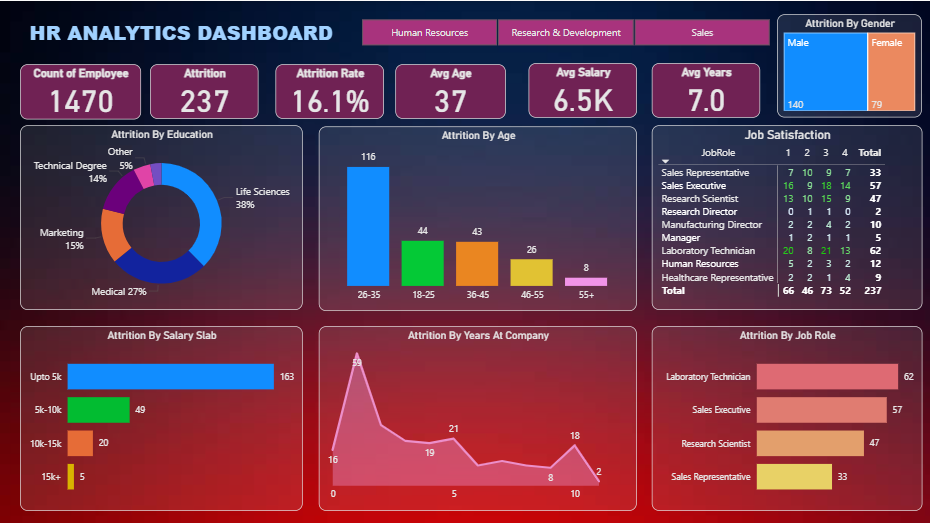

The page's visual inventory and layout, read from the dashboard file:
{"tool":"powerbi","page":{"name":"Page 1","canvas":[1280,720],"ordinal":0},"visuals":[{"type":"card","title":"Count of Employee","fields":{"Values":["CountNonNull(HR_Analytics.EmpID)"]},"box":[30.6,86.8,156,75.6],"z":0},{"type":"card","title":"Attrition","fields":{"Values":["Sum(HR_Analytics.AttritionCount)"]},"box":[209.1,87.3,149.1,74.5],"z":1000},{"type":"card","title":"Attrition Rate","fields":{"Values":["HR_Analytics.AttritionRate"]},"box":[380,87.3,149.1,74.5],"z":2000},{"type":"card","title":"Avg Age","fields":{"Values":["Avg(HR_Analytics.Age)"]},"box":[545.5,87.3,150.9,74.5],"z":3000},{"type":"card","title":"Avg Salary","fields":{"Values":["Avg(HR_Analytics.MonthlyIncome)"]},"box":[727.3,85.5,149.1,74.5],"z":4000},{"type":"card","title":"Avg Years","fields":{"Values":["Avg(HR_Analytics.YearsAtCompany)"]},"box":[896.4,85.5,149.1,74.5],"z":5000},{"type":"donutChart","title":"Attrition By Education","fields":{"Y":["Sum(HR_Analytics.AttritionCount)"],"Category":["HR_Analytics.EducationField"]},"box":[30.9,170.9,387.3,252.7],"z":6000},{"type":"columnChart","title":"Attrition By Age","fields":{"Category":["HR_Analytics.AgeGroup"],"Y":["Sum(HR_Analytics.AttritionCount)"]},"box":[440,172.7,436.4,252.7],"z":7000},{"type":"pivotTable","title":"Job Satisfaction ","fields":{"Rows":["HR_Analytics.JobRole"],"Columns":["HR_Analytics.JobSatisfaction"],"Values":["Sum(HR_Analytics.AttritionCount)"]},"box":[896.4,170.9,370.9,252.7],"z":8000},{"type":"barChart","title":"Attrition By Salary Slab","fields":{"Category":["HR_Analytics.SalarySlab"],"Y":["Sum(HR_Analytics.AttritionCount)"]},"box":[30.9,445.5,387.3,252.7],"z":9000},{"type":"barChart","title":"Attrition By Job Role","fields":{"Category":["HR_Analytics.JobRole"],"Y":["Sum(HR_Analytics.AttritionCount)"]},"box":[896.4,445.5,370.9,252.7],"z":10000},{"type":"areaChart","title":"Attrition By Years At Company","fields":{"Category":["HR_Analytics.YearsAtCompany"],"Y":["Sum(HR_Analytics.AttritionCount)"]},"box":[440,445.5,436.4,252.7],"z":11000},{"type":"treemap","title":"Attrition By Gender","fields":{"Values":["Sum(HR_Analytics.AttritionCount)"],"Group":["HR_Analytics.Gender"]},"box":[1069.1,18.2,198.2,141.8],"z":12000},{"type":"slicer","fields":{"Values":["HR_Analytics.Department"]},"box":[472.7,18.2,609.1,49.1],"z":13000},{"type":"textbox","box":[30.9,18.2,441.8,49.1],"z":14000}]}

Visuals, with their boxes in screenshot pixels (x1, y1, x2, y2), scaled from the page's 1280x720 canvas onto the 930x523 screenshot:
"Count of Employee" card: region(22, 63, 136, 118)
"Attrition" card: region(152, 63, 260, 118)
"Attrition Rate" card: region(276, 63, 384, 118)
"Avg Age" card: region(396, 63, 506, 118)
"Avg Salary" card: region(528, 62, 637, 116)
"Avg Years" card: region(651, 62, 760, 116)
"Attrition By Education" donutChart: region(22, 124, 304, 308)
"Attrition By Age" columnChart: region(320, 125, 637, 309)
"Job Satisfaction " pivotTable: region(651, 124, 921, 308)
"Attrition By Salary Slab" barChart: region(22, 324, 304, 507)
"Attrition By Job Role" barChart: region(651, 324, 921, 507)
"Attrition By Years At Company" areaChart: region(320, 324, 637, 507)
"Attrition By Gender" treemap: region(777, 13, 921, 116)
slicer - HR_Analytics.Department: region(343, 13, 786, 49)
textbox: region(22, 13, 343, 49)
